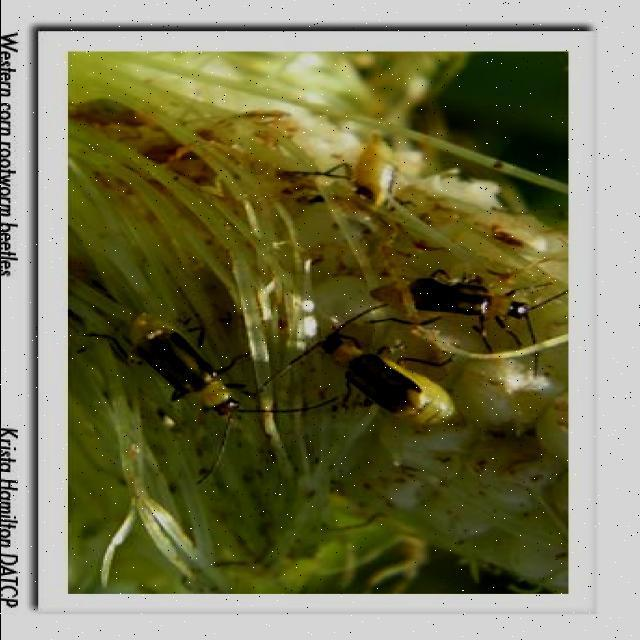trips: (87, 258, 326, 508), (323, 332, 463, 437), (382, 265, 538, 332), (338, 130, 404, 232)
